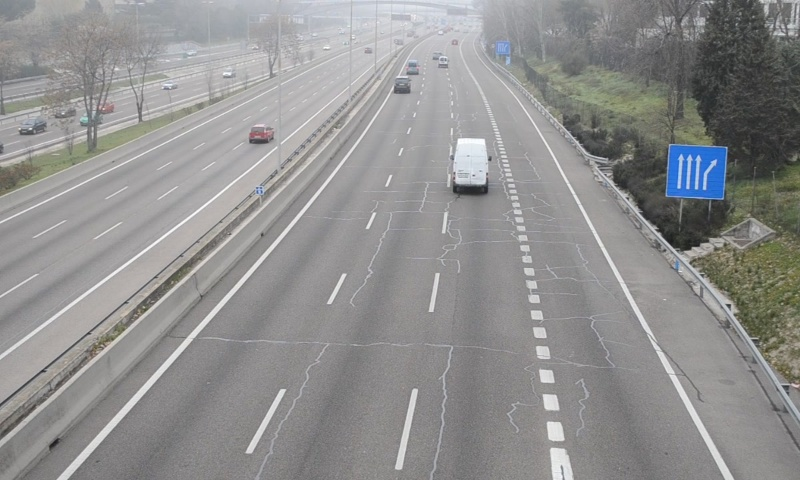car: (394, 76, 412, 92)
van: (452, 138, 488, 194)
